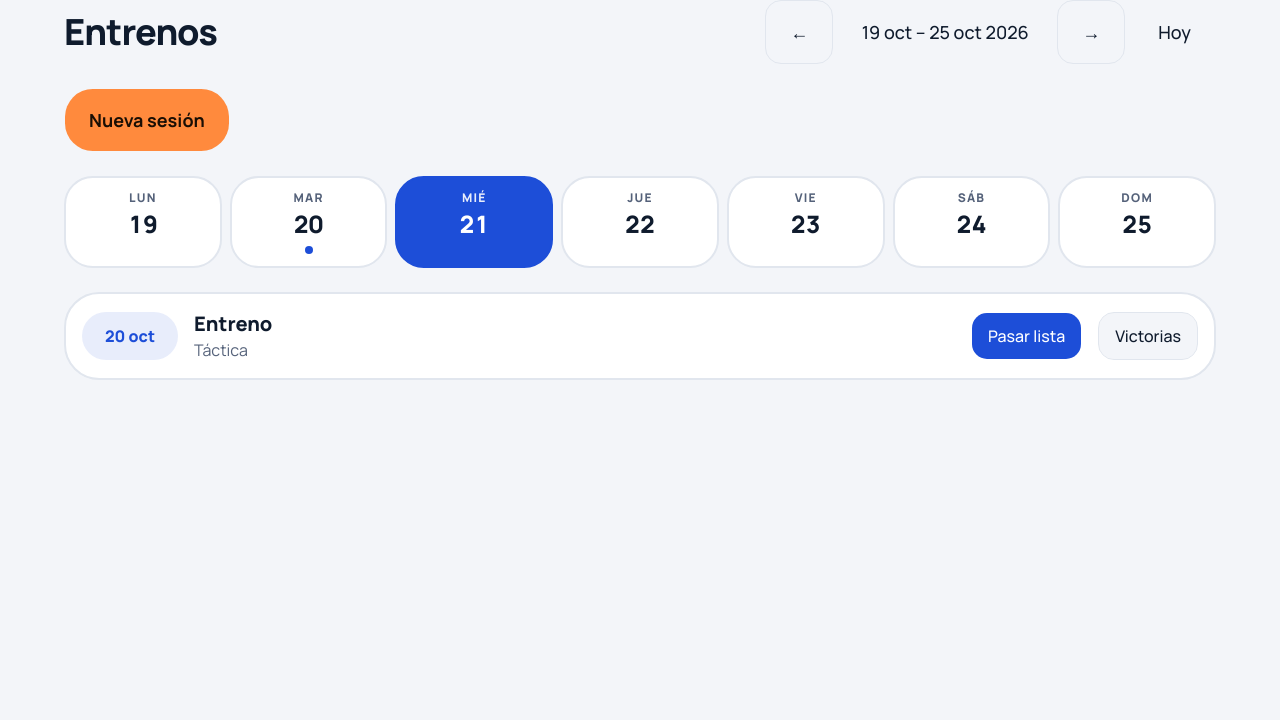
it: EntrenosPage › solo pide los minutos de retraso cuando llegó tarde
Expected: the text "Táctica" is shown, 194,339 -> 248,361
Click the button with aria-label "Pasar lista: Entreno 20 oct" at (1027, 336), box 971,312 -> 1082,360
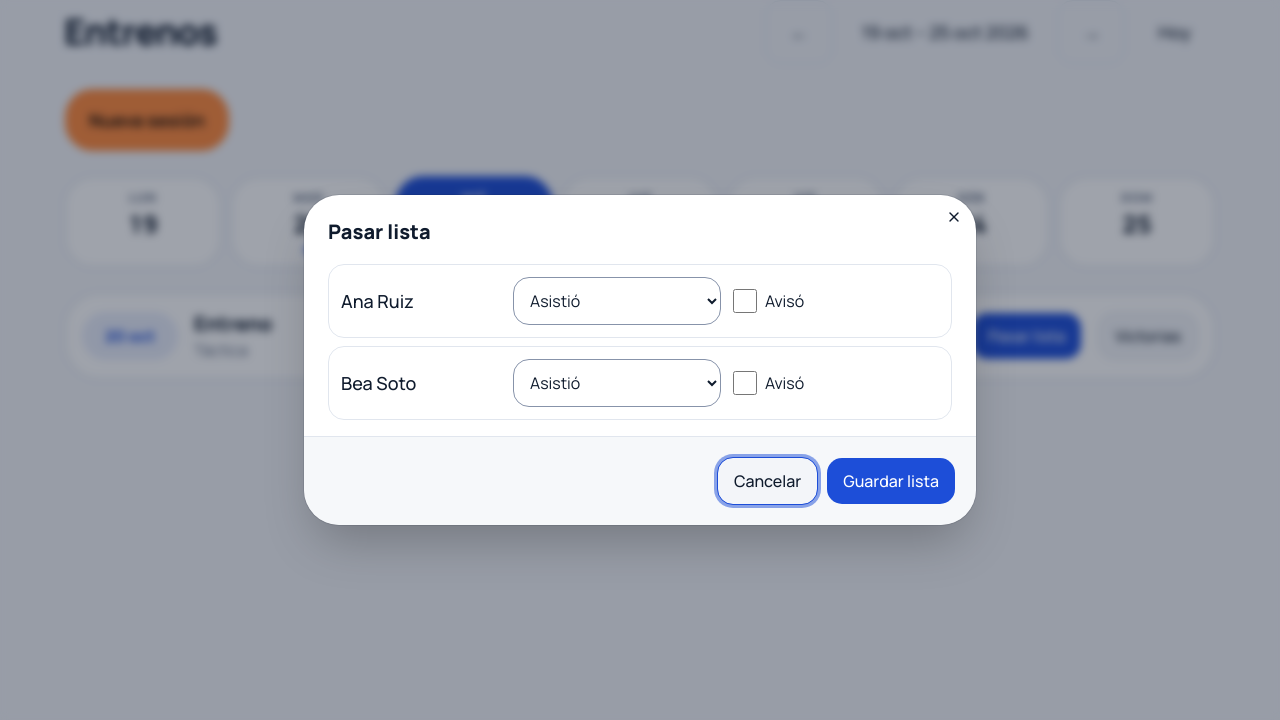
Expected: the text "Ana Ruiz" is shown, 341,289 -> 414,313
Select "Llegó tarde" in the dropdown named "Estado de Ana Ruiz" at (617, 301), box 513,277 -> 721,325
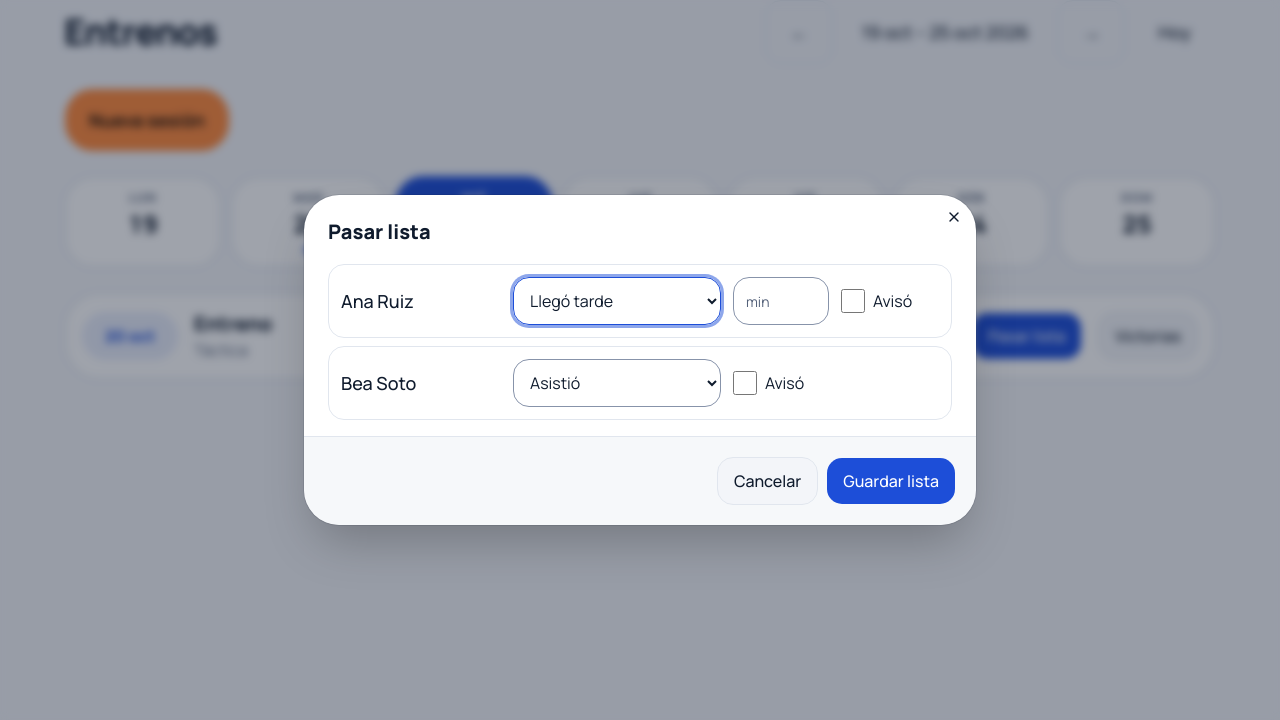
Expected: the number field named "Minutos de retraso de Ana Ruiz" is shown, 733,277 -> 829,325
